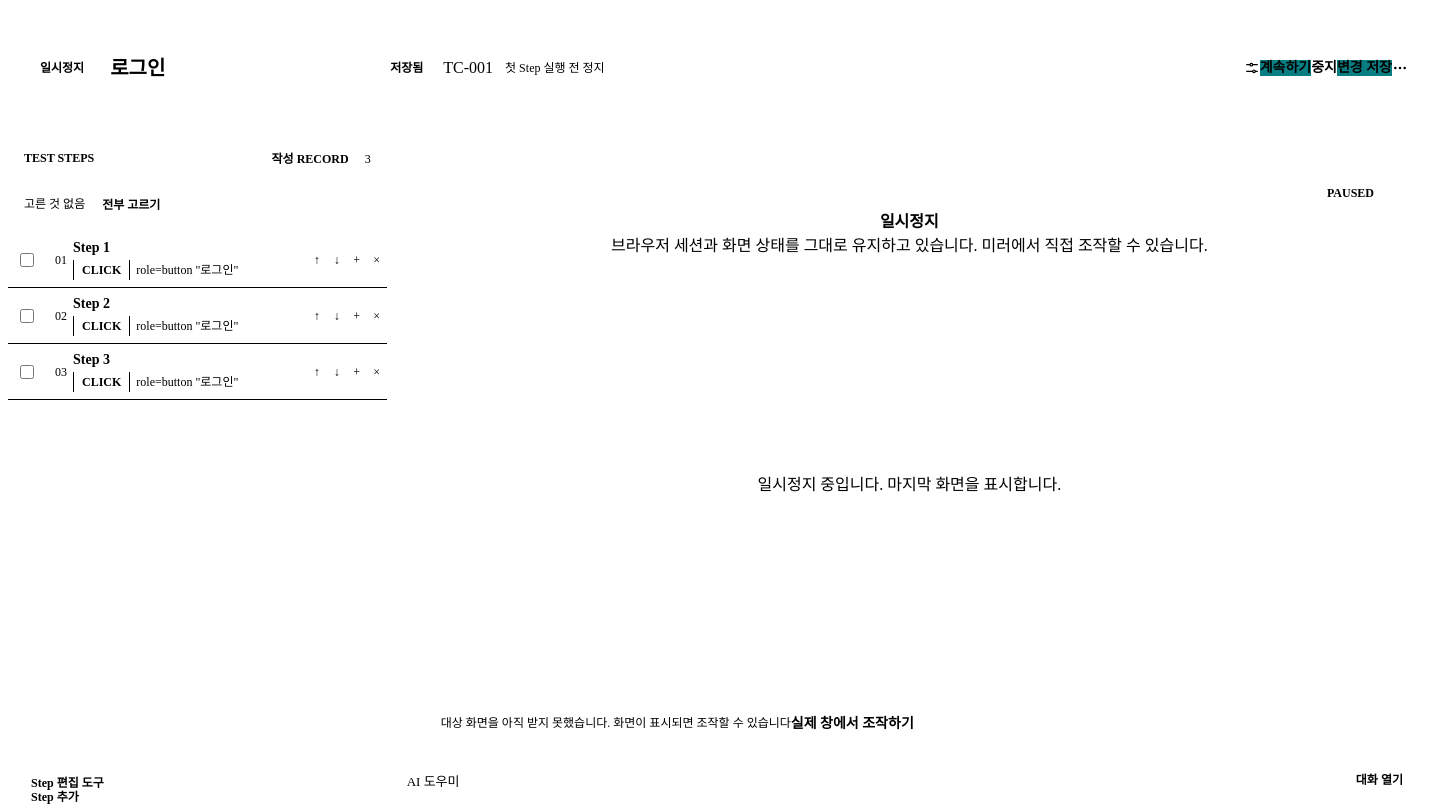
Test case: UC-011-16 — 선택은 Step 을 따라간다 › 목록에서 사라진 Step 은 선택에서 빠지고 남은 것은 유지된다
Step 1. Click the checkbox named "Step 1 지울 대상으로 고르기" → (27, 260), box top-left (20, 252), bottom-right (34, 266)
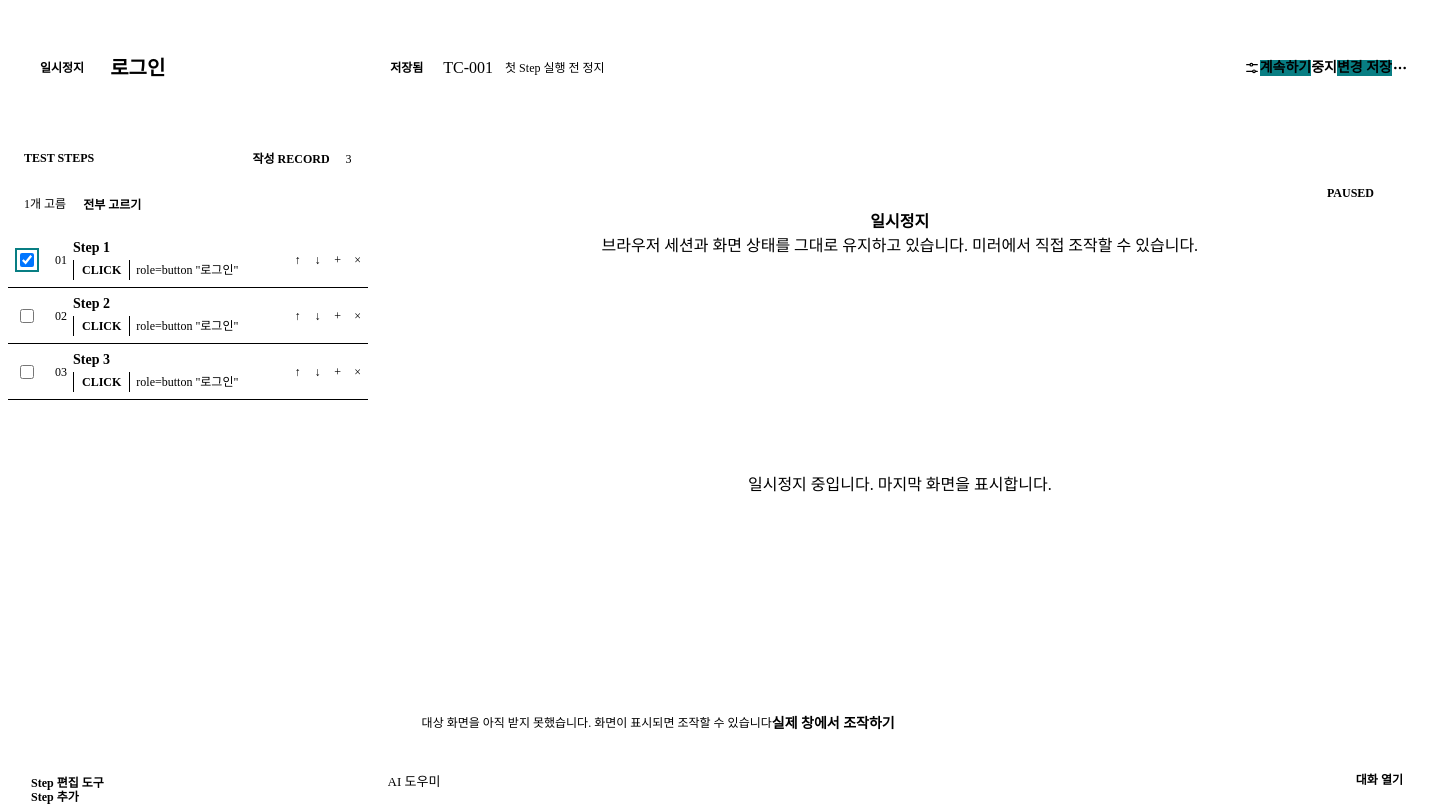
Step 2. Click the checkbox named "Step 2 지울 대상으로 고르기" → (27, 316), box top-left (20, 308), bottom-right (34, 322)
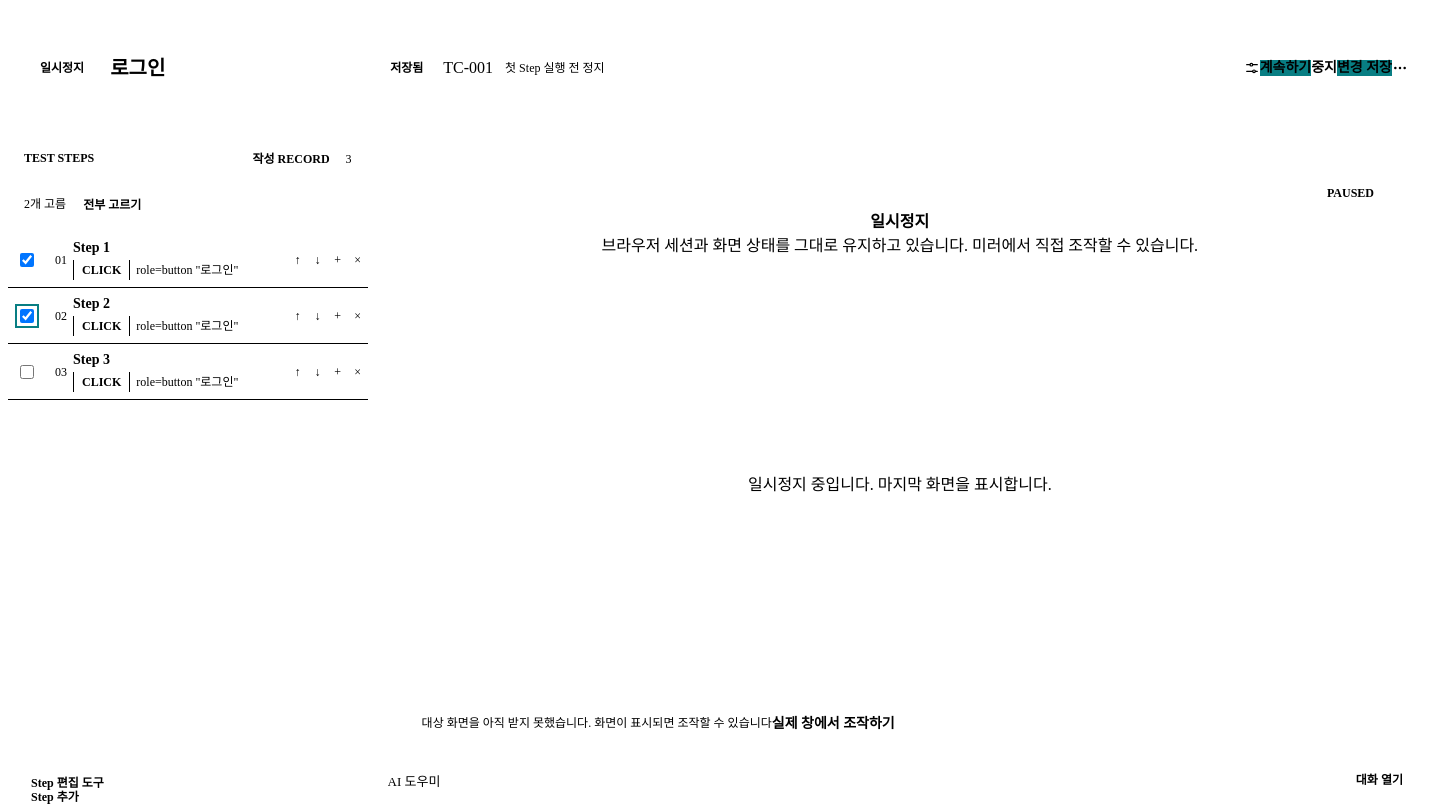
Check: the checkbox named "Step 1 지울 대상으로 고르기" is checked, box top-left (20, 252), bottom-right (34, 266)
Check: the text "2개 고름" is shown, box top-left (24, 196), bottom-right (66, 213)
